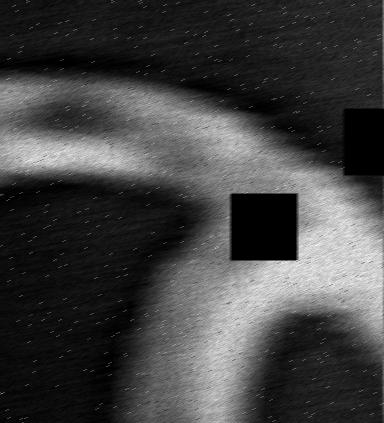Airbag: (0, 0, 384, 423), (382, 0, 384, 423)
